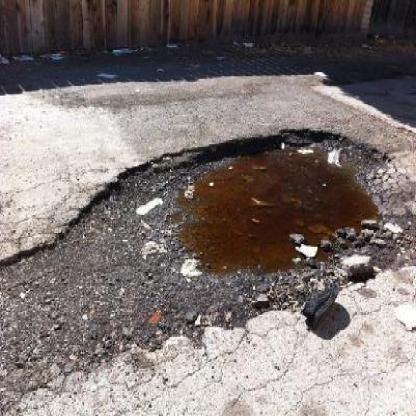pothole: (52, 125, 402, 391)
